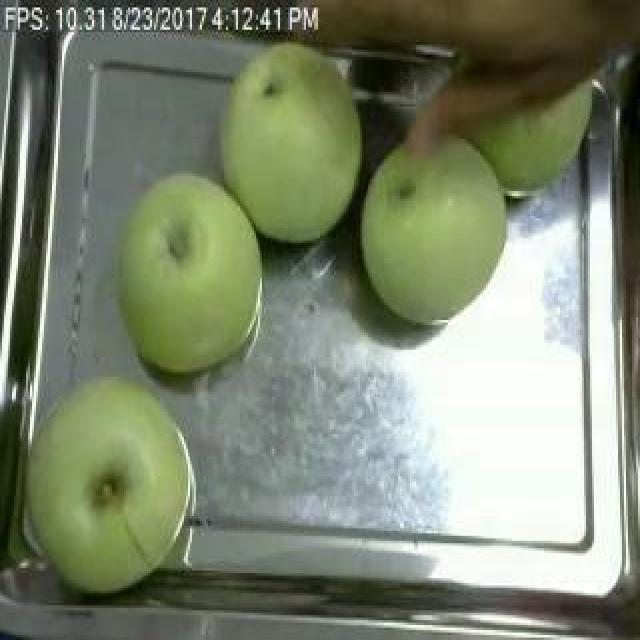Rotten Apple: (45, 372, 209, 595), (110, 182, 292, 378), (221, 41, 371, 247)
